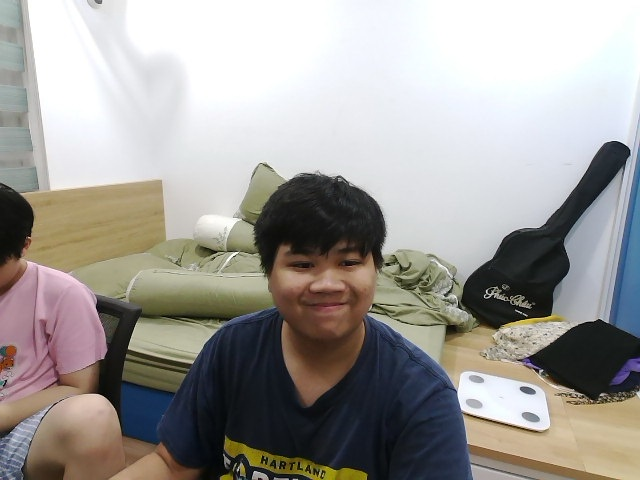face: (255, 173, 387, 344)
